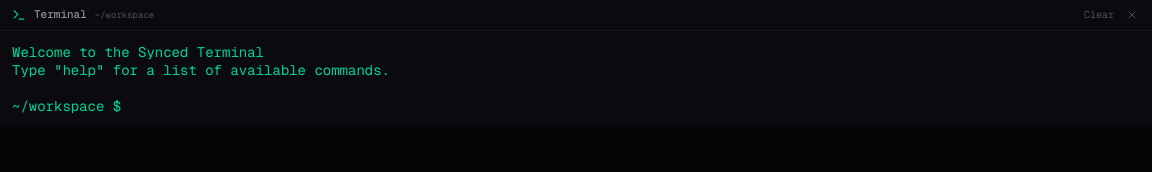
it: TerminalPanel › executes a command on Enter
Type "whoami" into the field.
click(631, 106); type("whoami")  # box [121,97,1140,115]
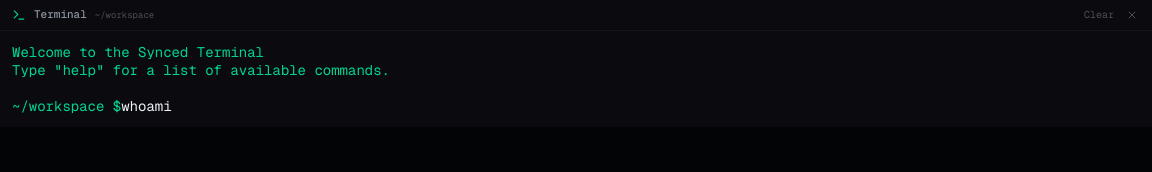
Press Enter in the field, box [121,97,1140,115]
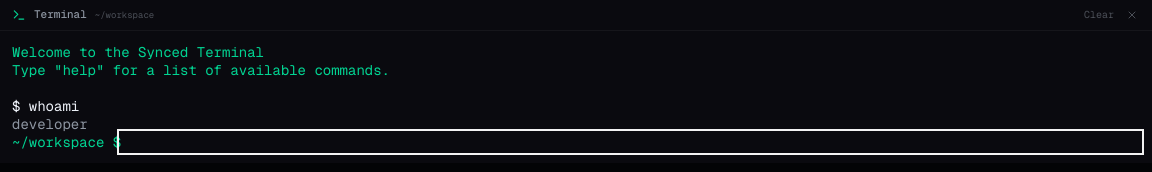
Expected: the text "developer" is shown, [12,115,88,133]
